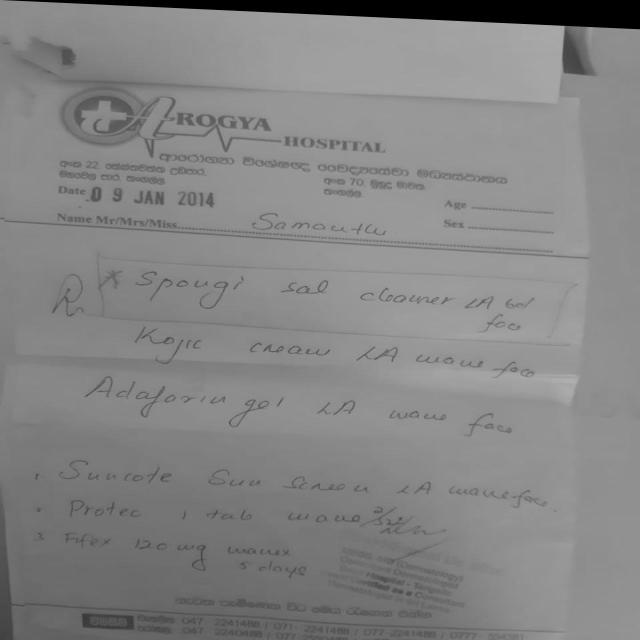Prescription: (80, 371, 453, 431), (58, 455, 516, 499), (134, 261, 534, 309), (134, 323, 489, 371), (61, 490, 415, 529), (61, 530, 315, 580)
